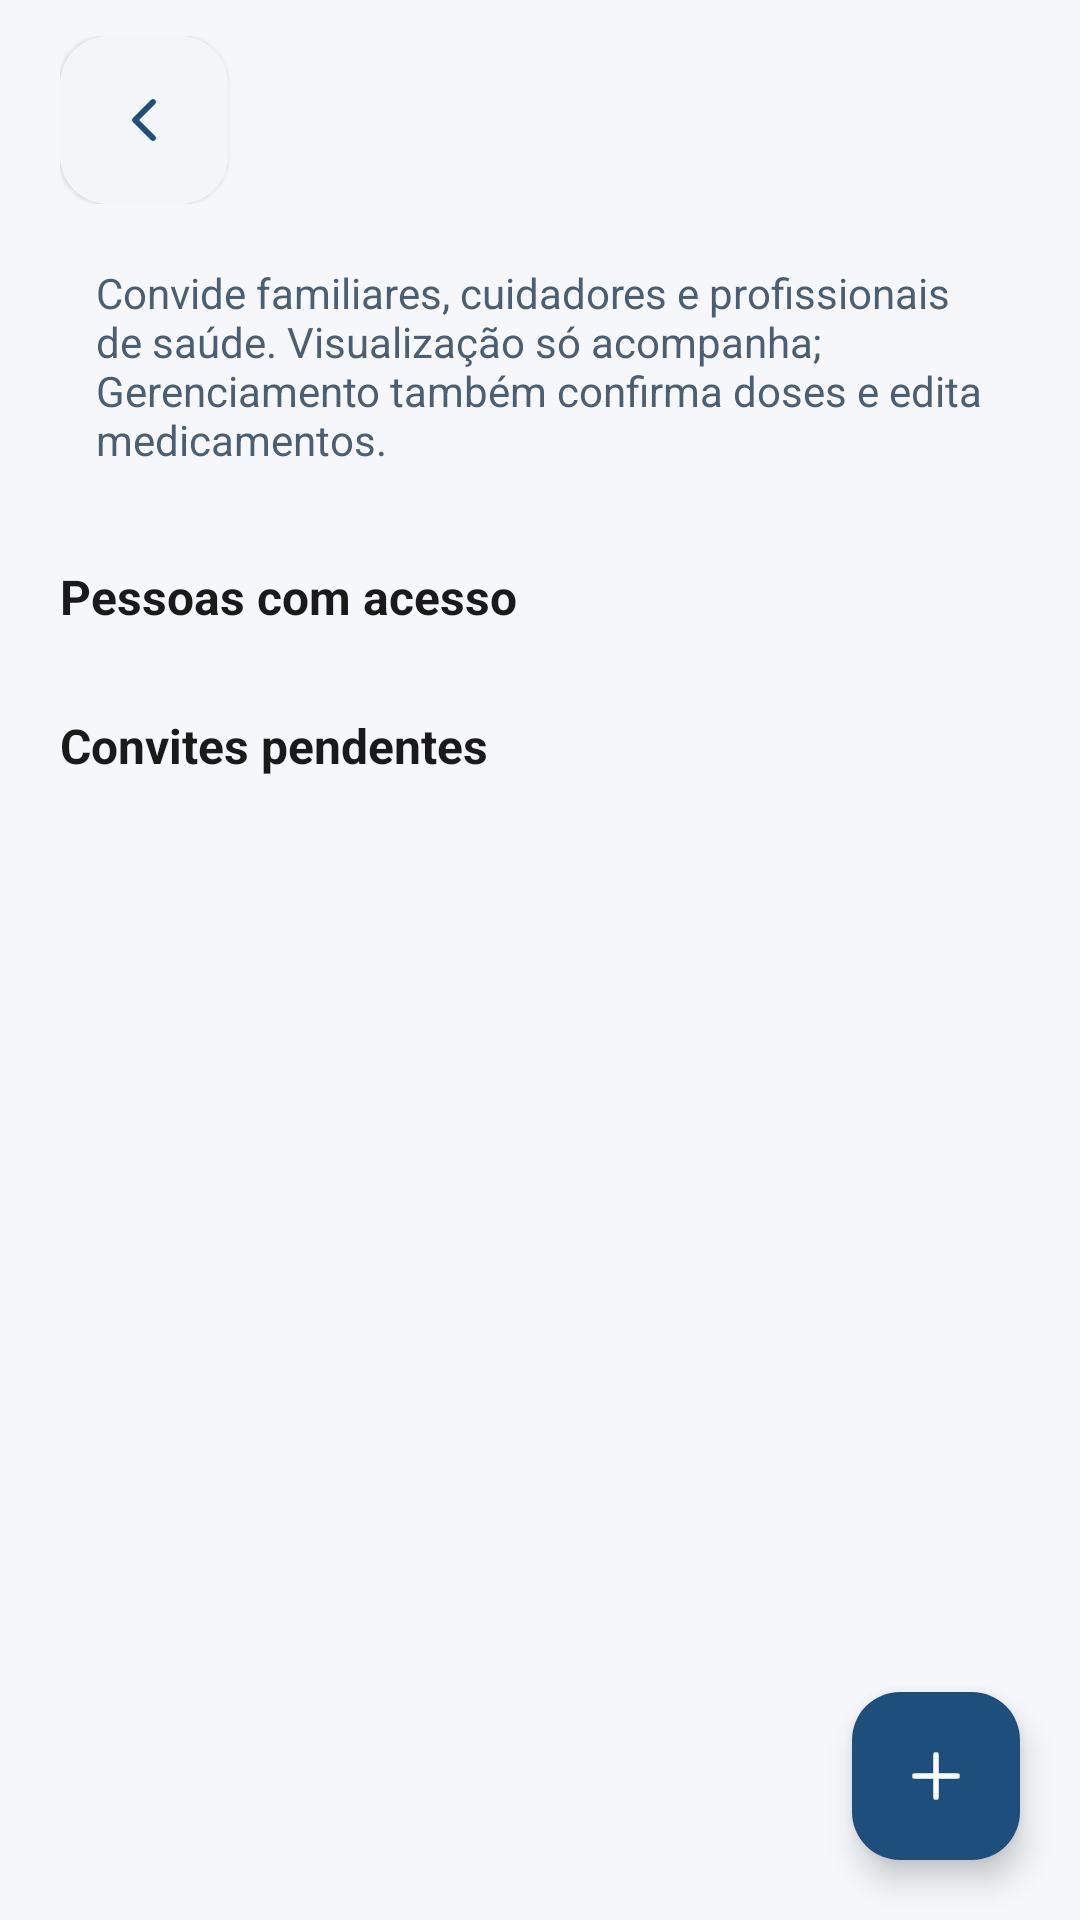

Icon bounding boxes for this 1080x1920 phone screenshot, format Rect(x1, y1, x2, y2):
Convidar pessoa: Rect(852, 1692, 1020, 1860)
